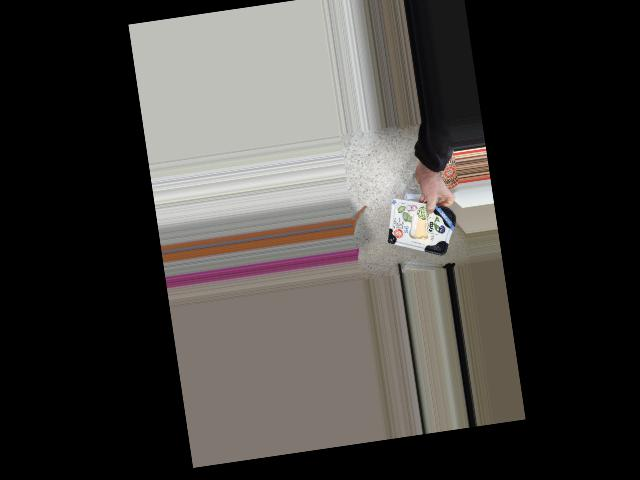cheese: (384, 196, 457, 253)
